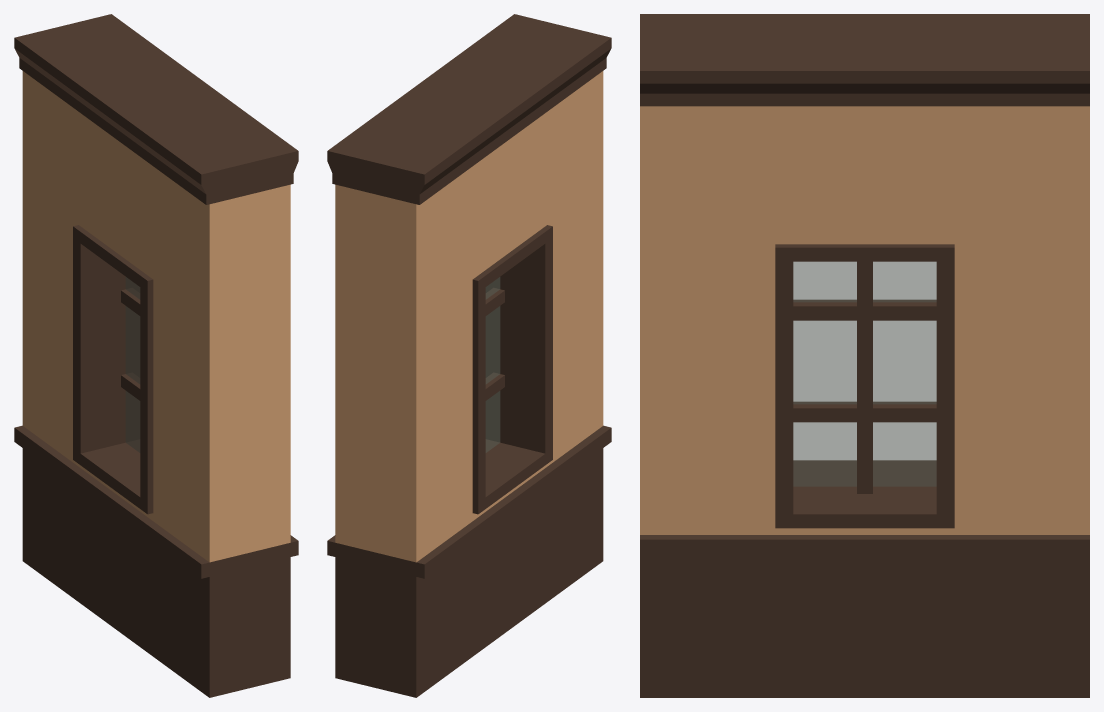
The model's file is S_WallWindow.fbx.
3 views of the same model, side by side, from view 1: azimuth 30°, elevation 25°; view 2: azimuth 150°, elevation 25°; view 3: azimuth 270°, elevation 25° (orthographic). The views are drawn at different scales.
Parts seen in each view (by area): view 1: S_WallWindow; view 2: S_WallWindow; view 3: S_WallWindow.
Boxes of the visible parts, x1=… form: S_WallWindow: x1=14, y1=14, x2=298, y2=697; S_WallWindow: x1=327, y1=14, x2=611, y2=697; S_WallWindow: x1=640, y1=14, x2=1089, y2=697.
Bounding box in the file's own units: 59.94 × 310 × 200.
